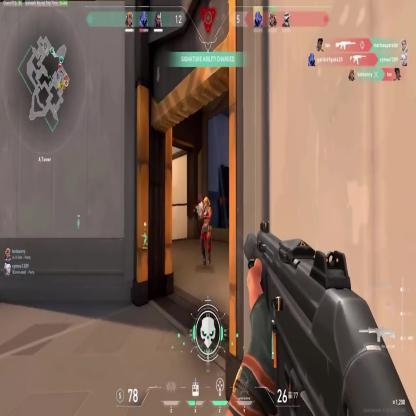enemy: (198, 196, 213, 268)
enemy_head: (204, 197, 210, 209)
